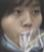mask_weared_incorrect: (1, 1, 44, 52)
